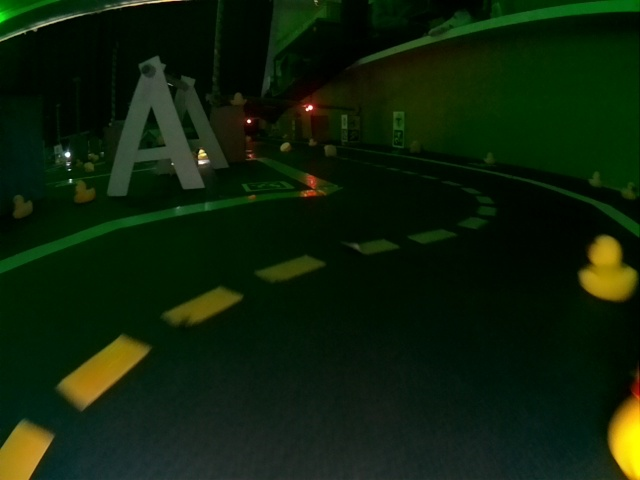Duckie: (579, 235, 630, 294), (607, 370, 636, 473), (12, 195, 34, 218), (74, 180, 95, 202), (619, 182, 636, 200), (230, 92, 247, 106), (324, 144, 336, 154), (590, 171, 598, 185), (280, 142, 289, 151), (485, 153, 494, 161), (308, 139, 317, 147), (409, 142, 418, 148)
Intersection sign: (394, 113, 403, 128)
QR code: (243, 181, 293, 191), (392, 129, 402, 148), (348, 129, 360, 141)
